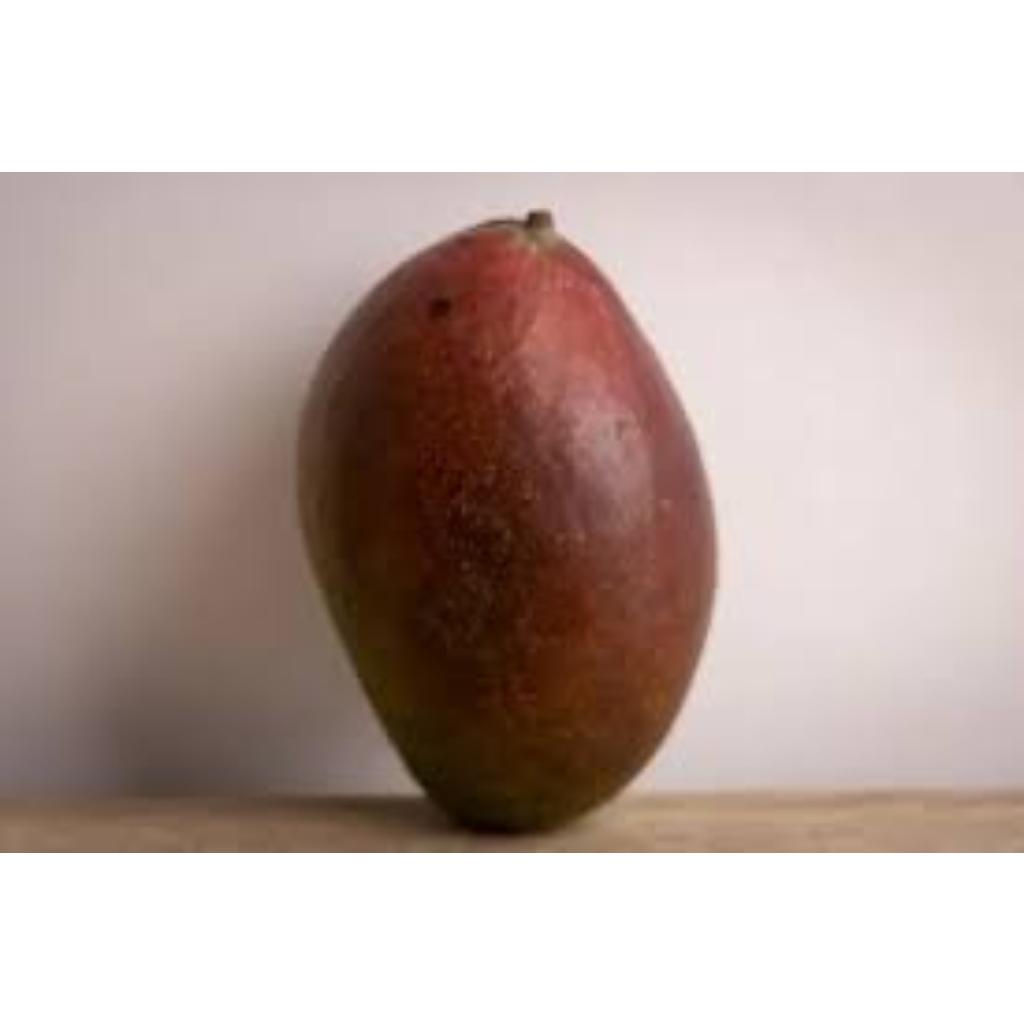mango: (290, 208, 722, 834)
